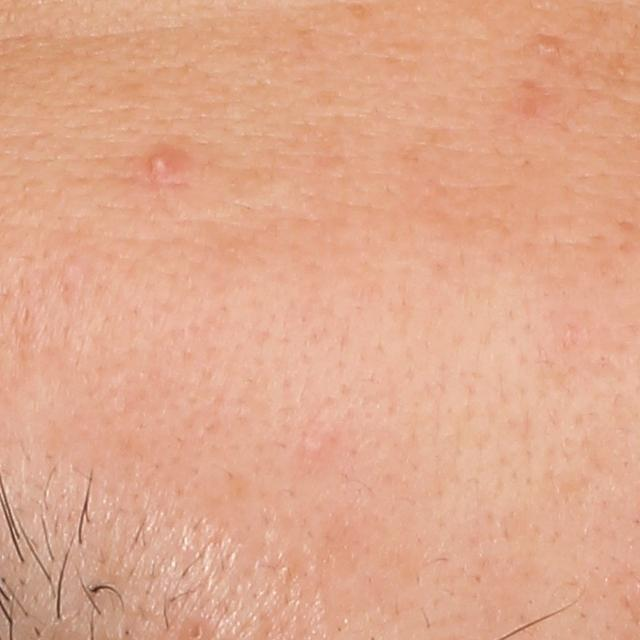comedo: (303, 430, 337, 458), (531, 32, 563, 61)
pustule: (135, 142, 192, 190)
